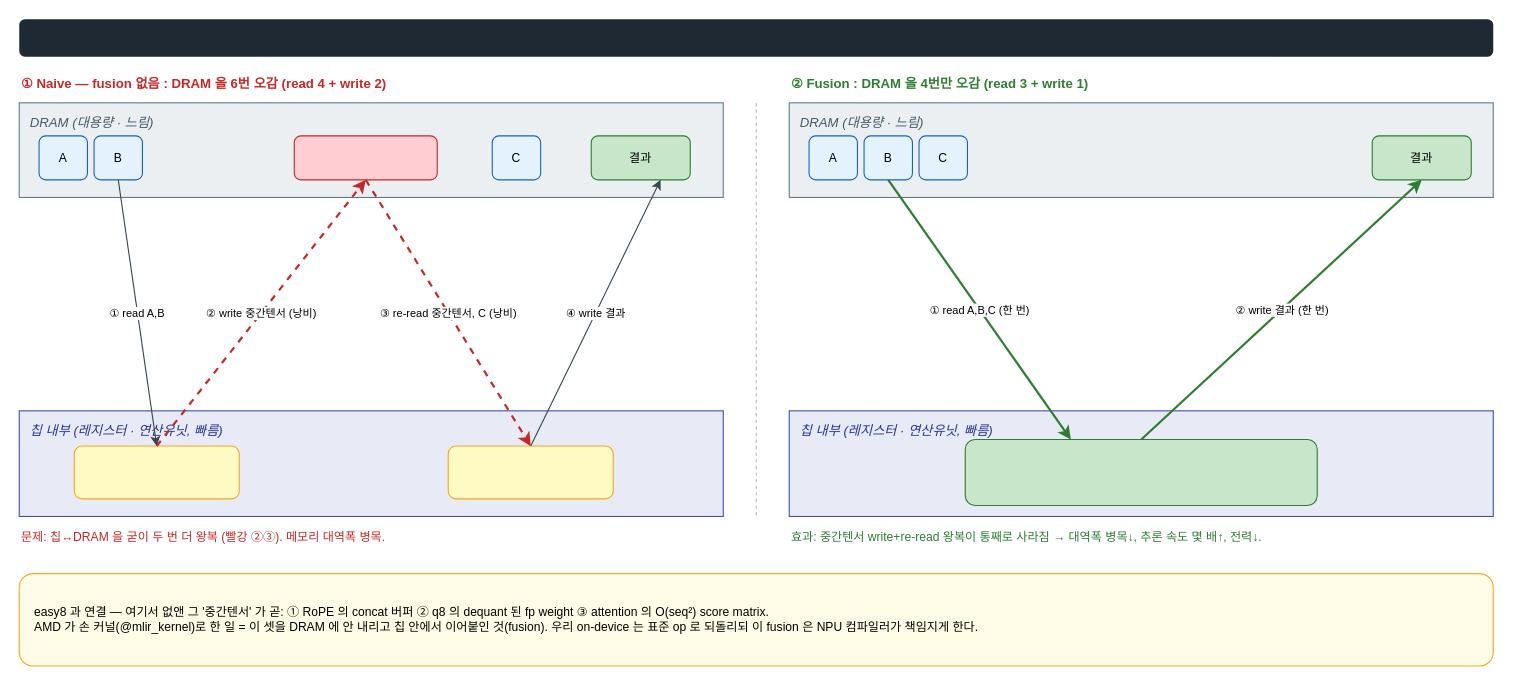
Some shapes in this 1513 by 685 pixel diagram are drawn without their labels. Each missing label, with the centre of its shape:
Fusion 이란 — 연산을 칩 안에서 이어붙여 중간 결과를 DRAM 에 안 내리는 것 (예: A * B + C): the point at 756,37
곱셈 A * B: the point at 156,472
덧셈 + C: the point at 530,472
중간텐서 (materialize): the point at 365,157
한 커널: A * B → 결과를 레지스터에 둔 채 바로 + C 중간텐서를 DRAM 에 안 내림 (칩 안에만 존재): the point at 1140,471
